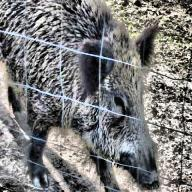boar: (1, 1, 160, 192)
